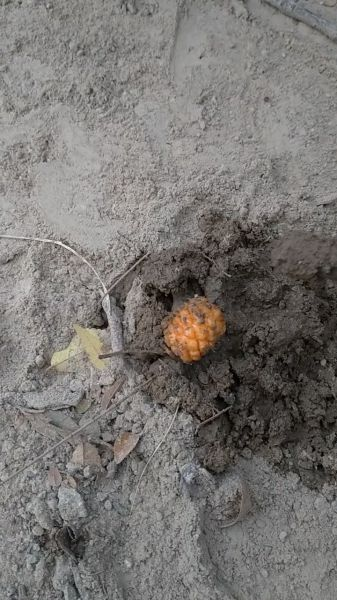eggs: (160, 295, 230, 360)
